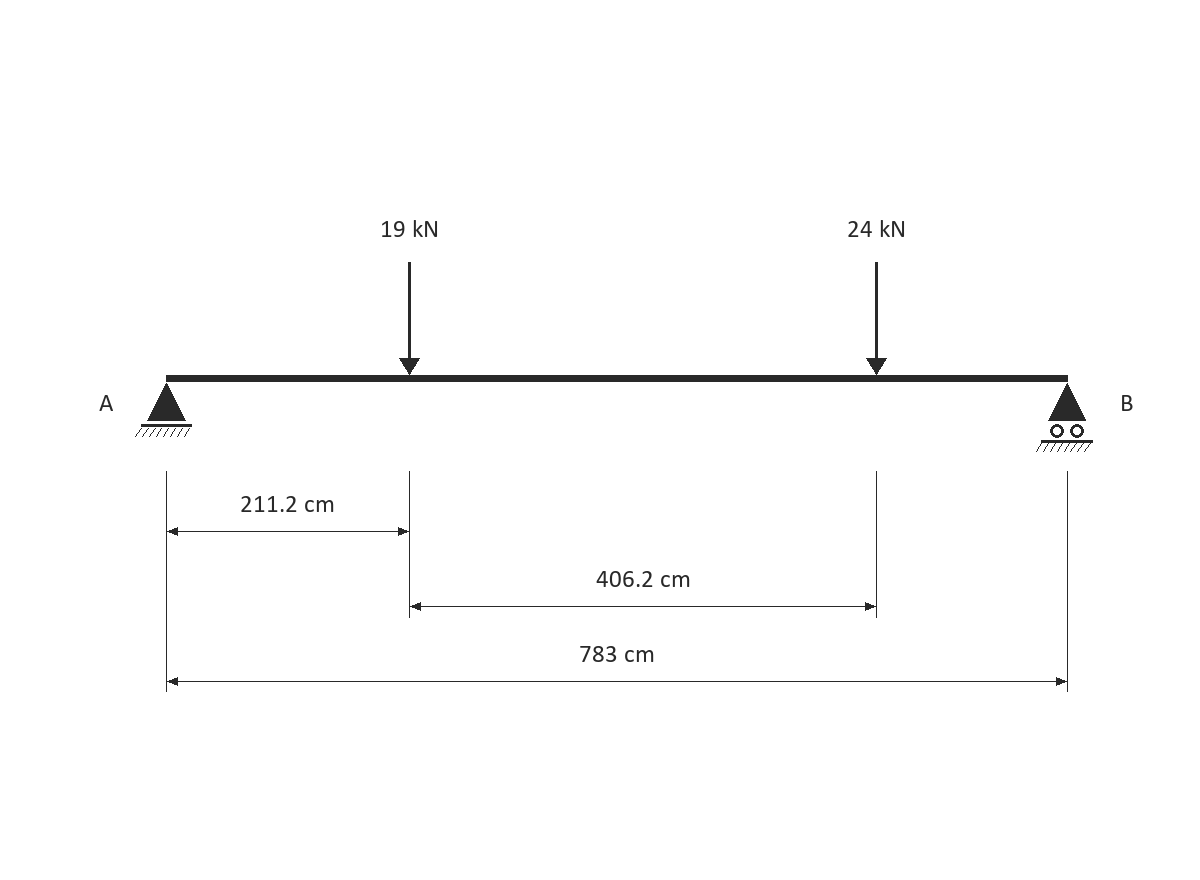pin_support: (135, 383, 192, 437)
point_load: (399, 262, 420, 375), (866, 262, 887, 375)
roller_support: (1036, 383, 1093, 452)
